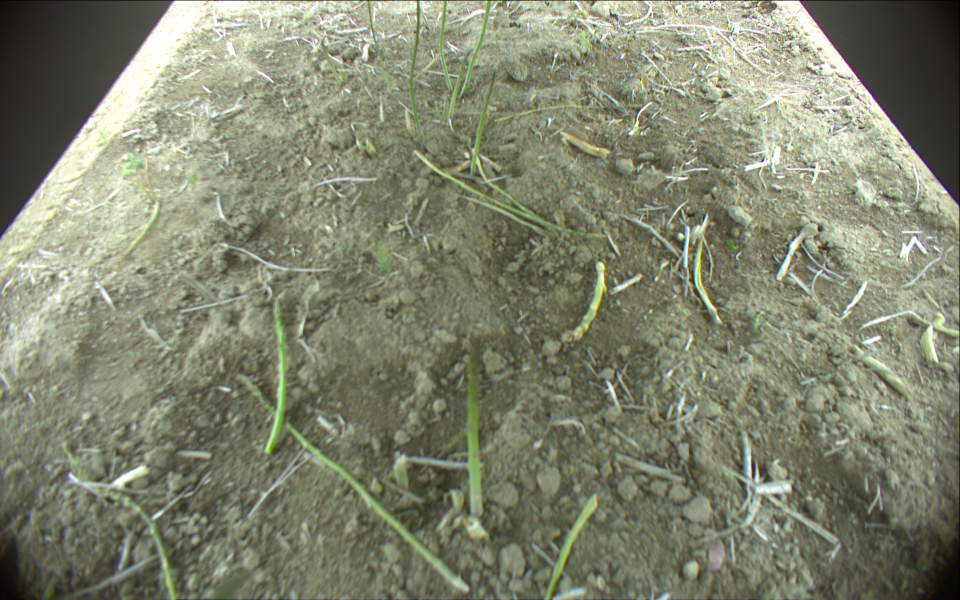aspa: (236, 374, 470, 593), (58, 445, 179, 600), (413, 151, 603, 237), (542, 494, 600, 600), (470, 150, 549, 221), (263, 289, 290, 456), (494, 101, 642, 124), (466, 343, 485, 521), (568, 261, 607, 342), (460, 1, 492, 98), (468, 70, 494, 179), (408, 1, 426, 152), (692, 239, 723, 324), (119, 201, 162, 258), (365, 1, 391, 92), (449, 48, 473, 121), (436, 1, 452, 90)
